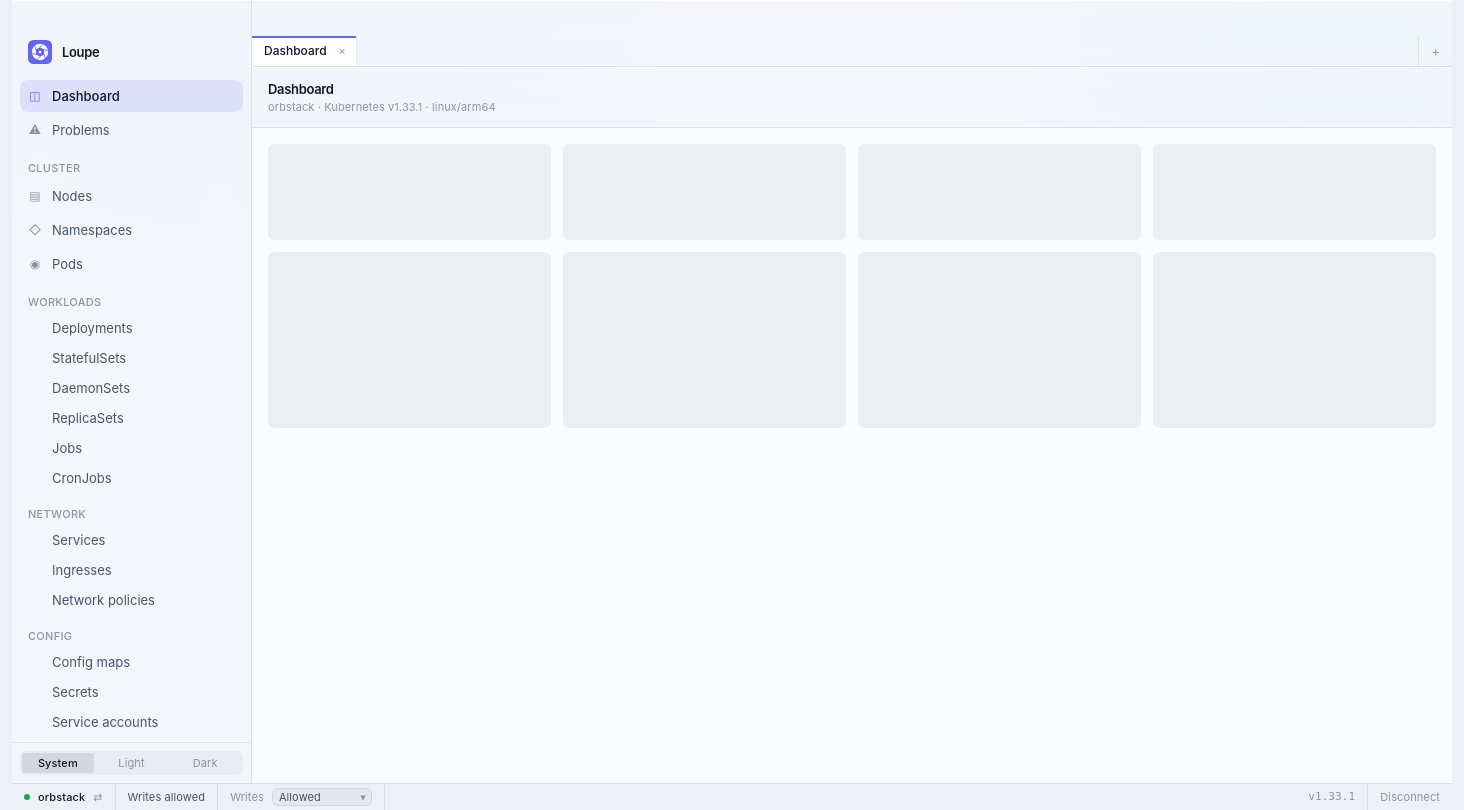
Test case: App workspace › goes to the listing scoped to the namespace from its crumb
Expected: the heading "Dashboard" is shown, x1=268 y1=81 x2=334 y2=97
Click the button "◉ Pods".
click(132, 264)  # box x1=20 y1=248 x2=243 y2=280
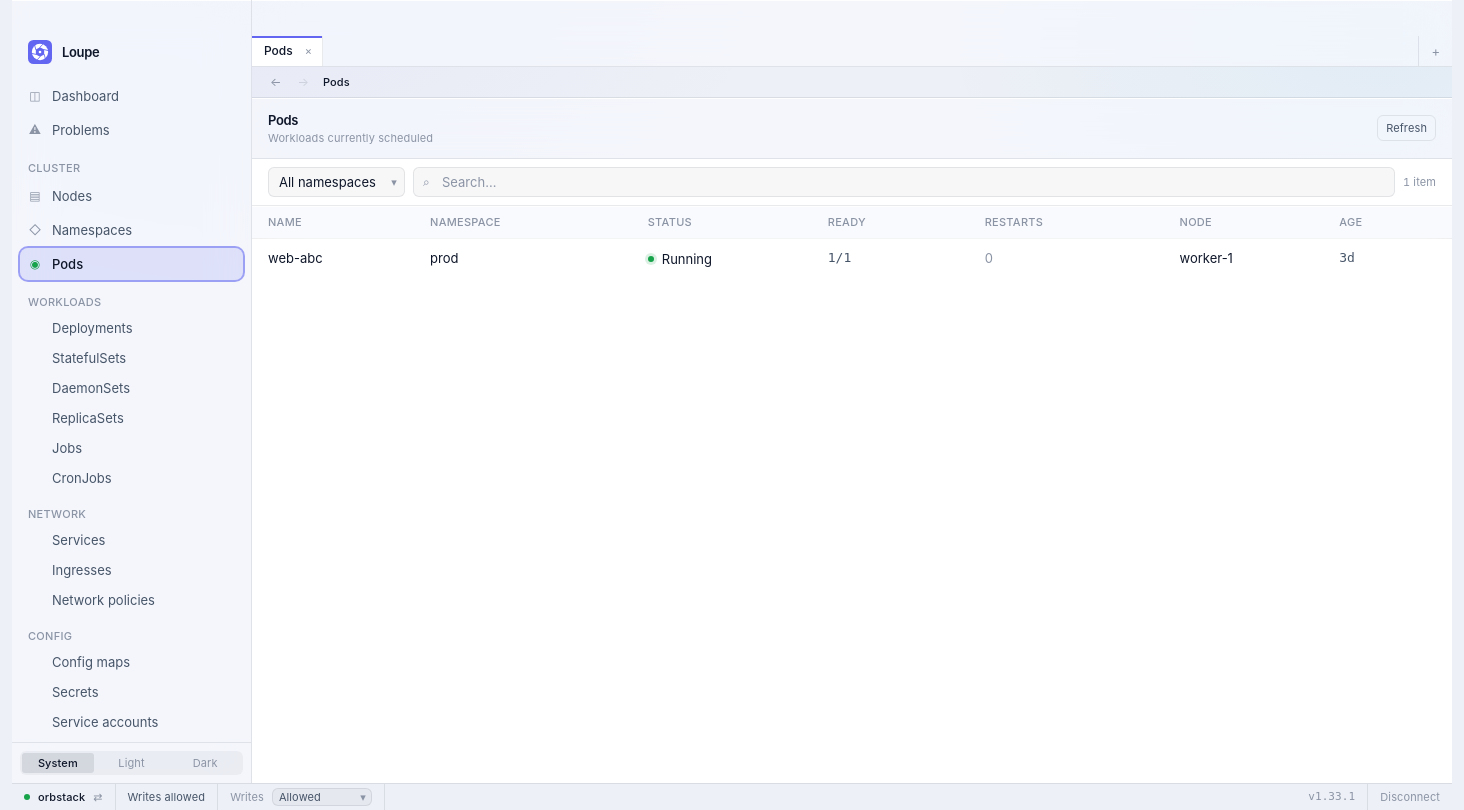
Click the text "web-abc".
click(295, 258)  # box x1=252 y1=238 x2=414 y2=277
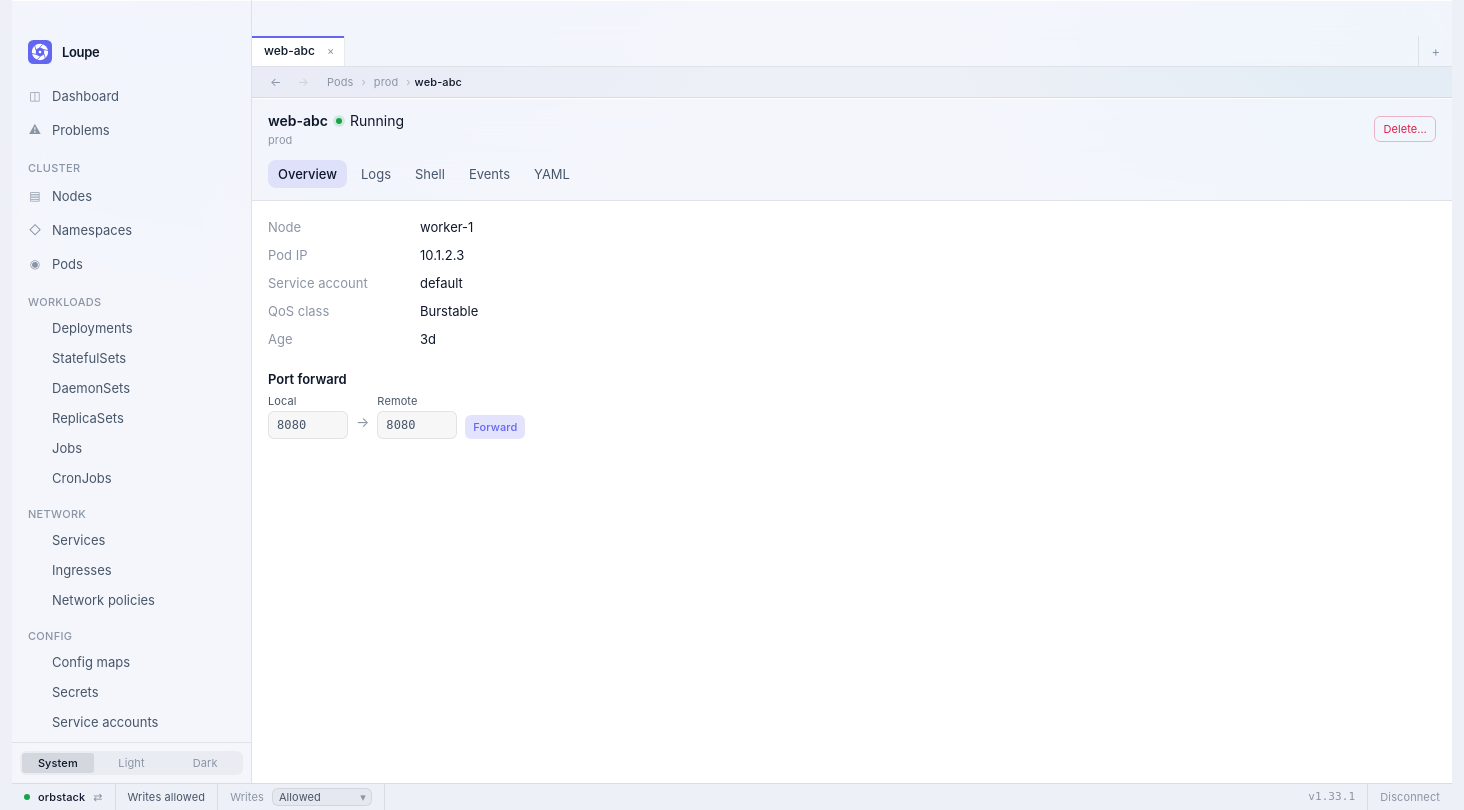
Click the button titled "Go to Pods in prod".
click(386, 82)  # box x1=370 y1=74 x2=402 y2=90
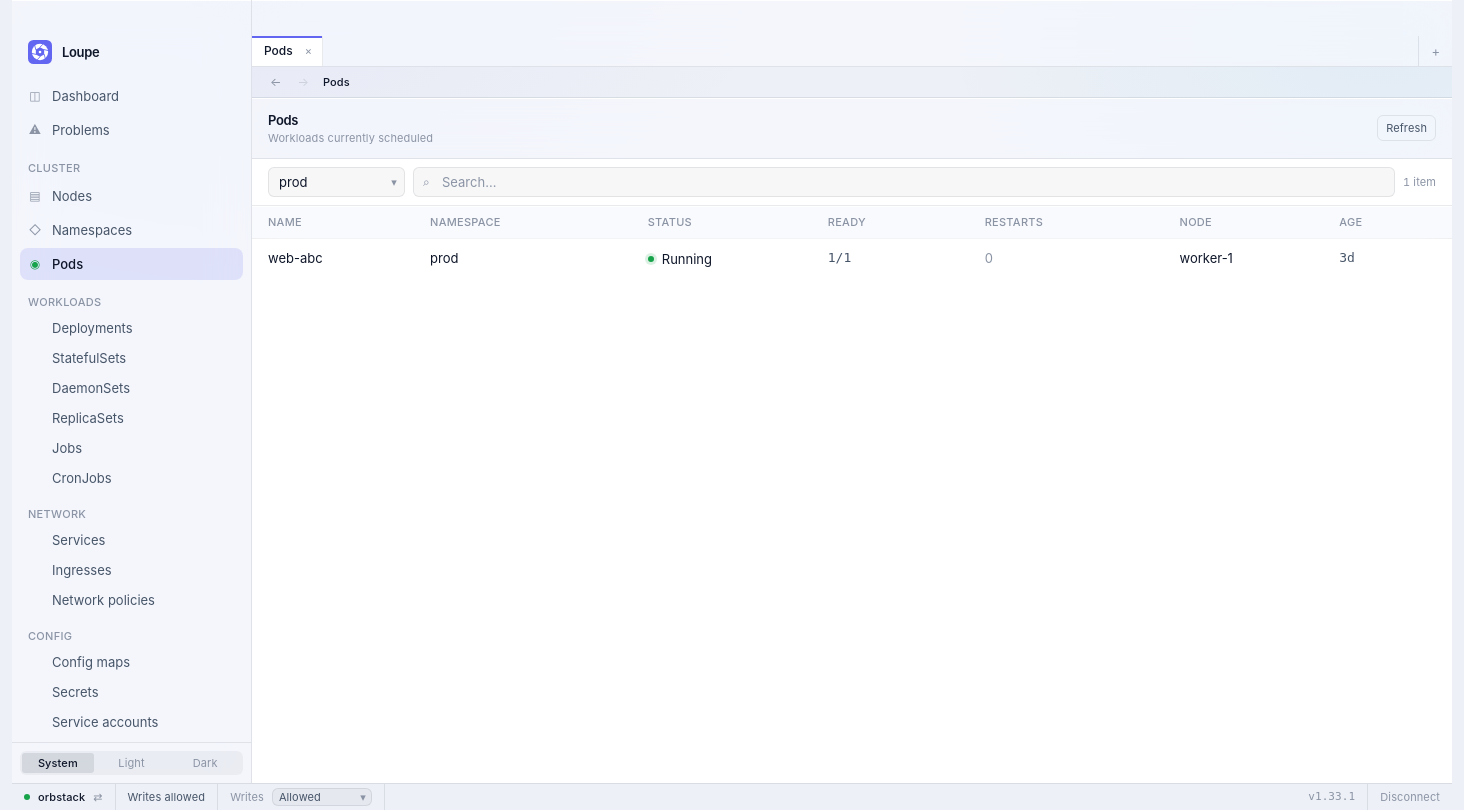
Now the heading "Pods" is shown, box x1=268 y1=112 x2=298 y2=128
